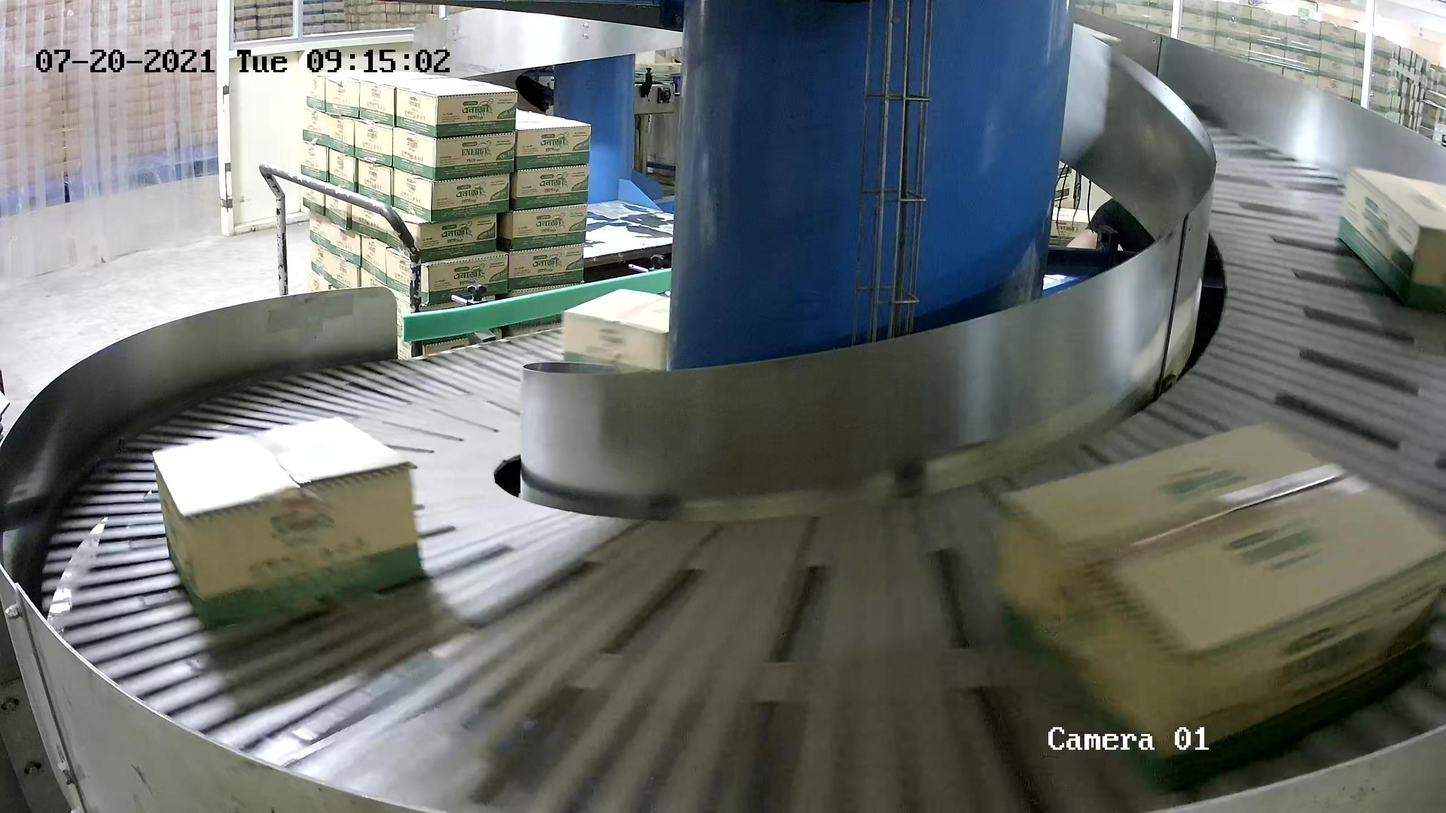Box: (993, 416, 1446, 794), (150, 414, 429, 632), (1336, 165, 1446, 310), (561, 285, 670, 373)
